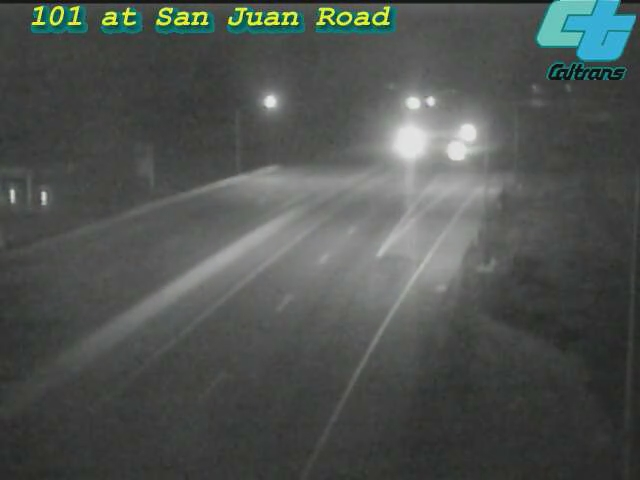vehicle: (380, 115, 430, 165), (443, 106, 493, 156), (432, 127, 482, 177)
